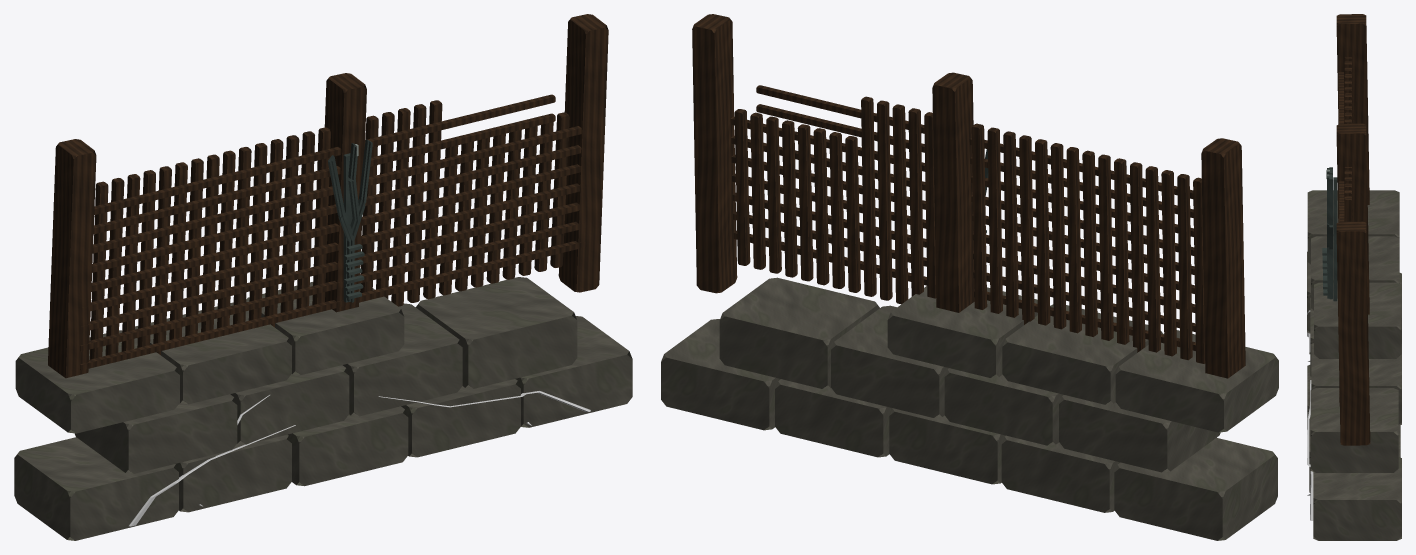
Rendered from cataclysm_fen_wall-lod2.gltf.
3 renders of one model, left to right at view 1: azimuth 30°, elevation 25°; view 2: azimuth 150°, elevation 25°; view 3: azimuth 270°, elevation 25°, orthographic. The views are drawn at different scales.
Visible parts, largest first — view 1: cataclysm_fen_wall LOD2 cataclysm_fen_wall, cataclysm_fen_wall LOD2 cataclysm_fen_wall roots attached; view 2: cataclysm_fen_wall LOD2 cataclysm_fen_wall; view 3: cataclysm_fen_wall LOD2 cataclysm_fen_wall, cataclysm_fen_wall LOD2 cataclysm_fen_wall roots attached.
Part boxes in pixels (bbox=[...]): cataclysm_fen_wall LOD2 cataclysm_fen_wall: bbox=[14, 14, 632, 540]; cataclysm_fen_wall LOD2 cataclysm_fen_wall roots attached: bbox=[129, 391, 590, 526]; cataclysm_fen_wall LOD2 cataclysm_fen_wall: bbox=[661, 14, 1278, 540]; cataclysm_fen_wall LOD2 cataclysm_fen_wall: bbox=[1307, 14, 1401, 540]; cataclysm_fen_wall LOD2 cataclysm_fen_wall roots attached: bbox=[1307, 310, 1313, 520].
Bounding box in the file's own units: 2.73 × 1.71 × 0.4792.
